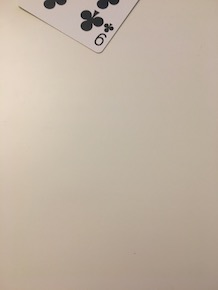NineOfClubs: (11, 1, 147, 55)
